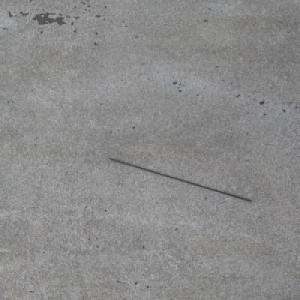LuggagePart: (107, 157, 252, 202)
